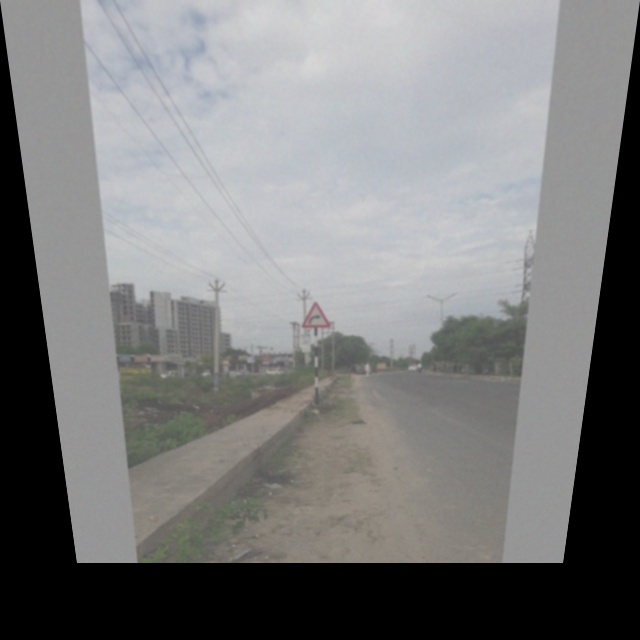Right_Hand_Curve: (300, 300, 331, 331)
